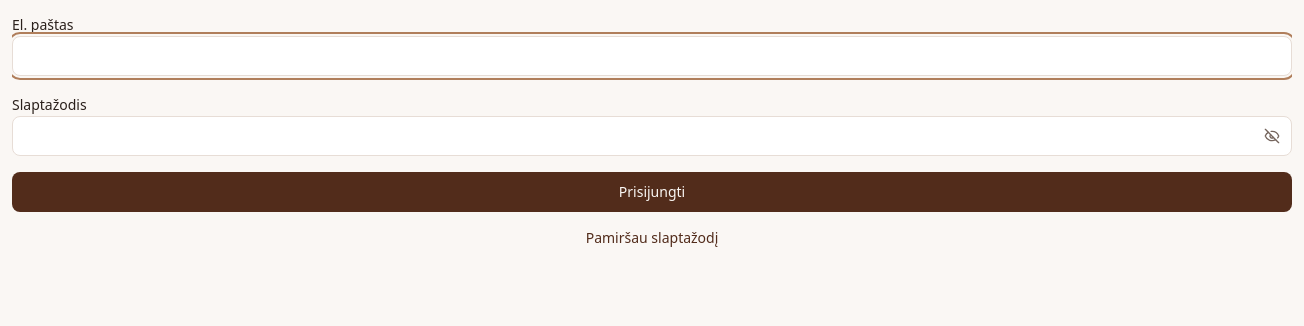
it: LoginForm › maps rate limiting (429) to a Lithuanian message
In the field labelled "El. paštas": (652, 56) x1=12 y1=36 x2=1292 y2=76, type "a@example.com"
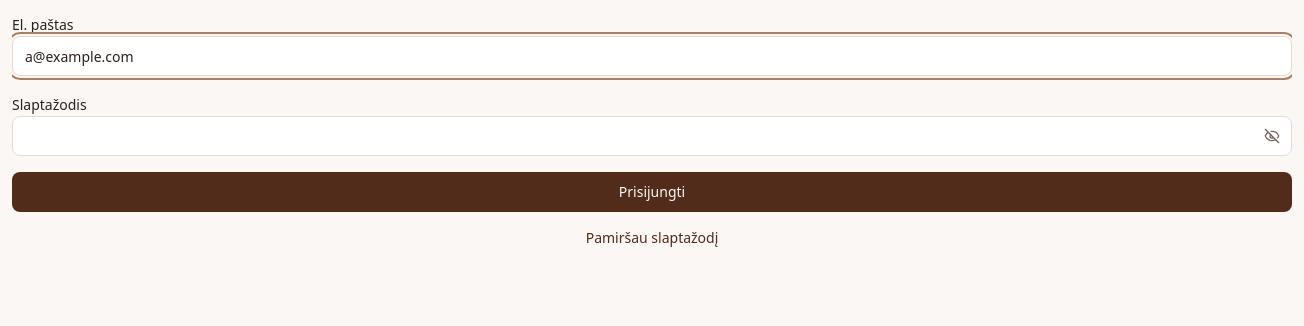
In the password field labelled "Slaptažodis": (652, 136) x1=12 y1=116 x2=1292 y2=156, type "password"
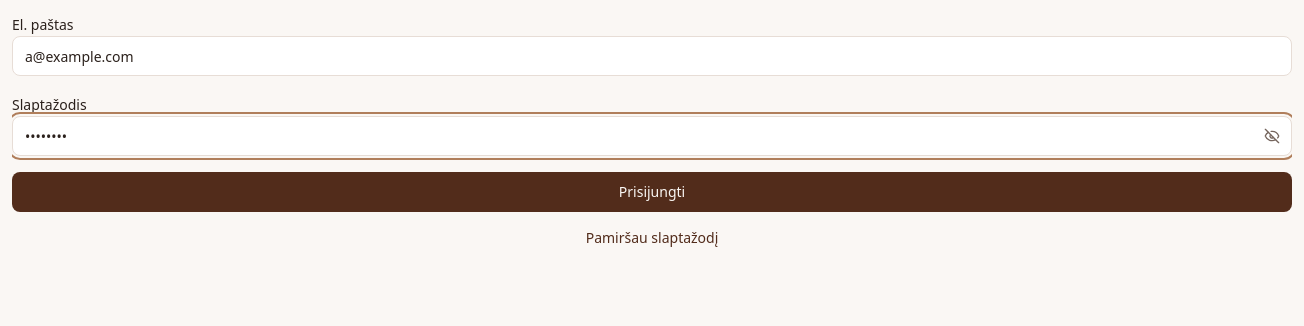
Click the button "Prisijungti": (652, 192) x1=12 y1=172 x2=1292 y2=212
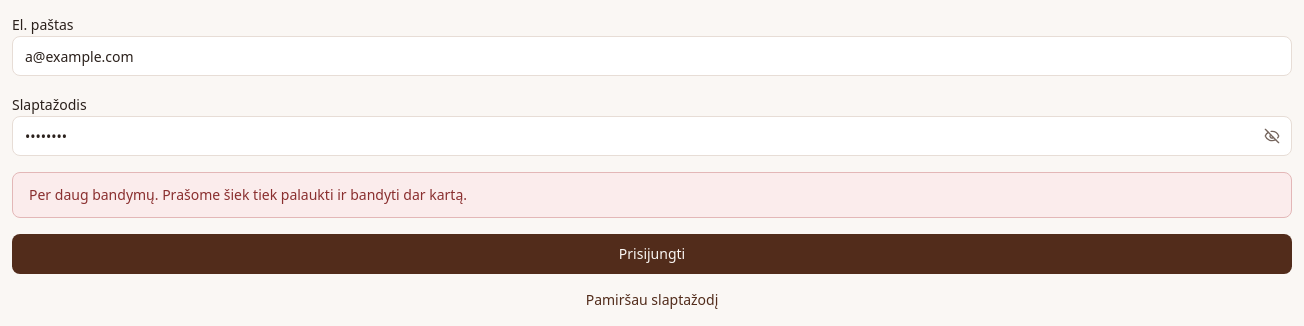
Result: the text "Per daug bandymų. Prašome šiek tiek palaukti ir bandyti dar kartą." is shown at x1=12 y1=172 x2=1292 y2=218
